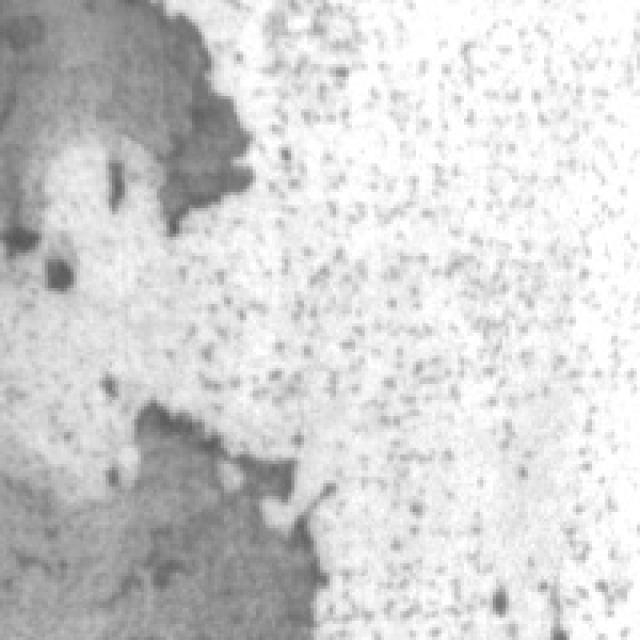patches: (96, 394, 339, 634), (57, 0, 266, 234)
pitted_surface: (259, 0, 640, 614)
